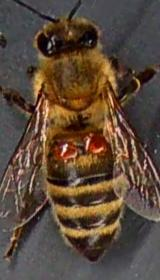varroa_mite: (75, 128, 110, 157), (52, 133, 82, 159)
